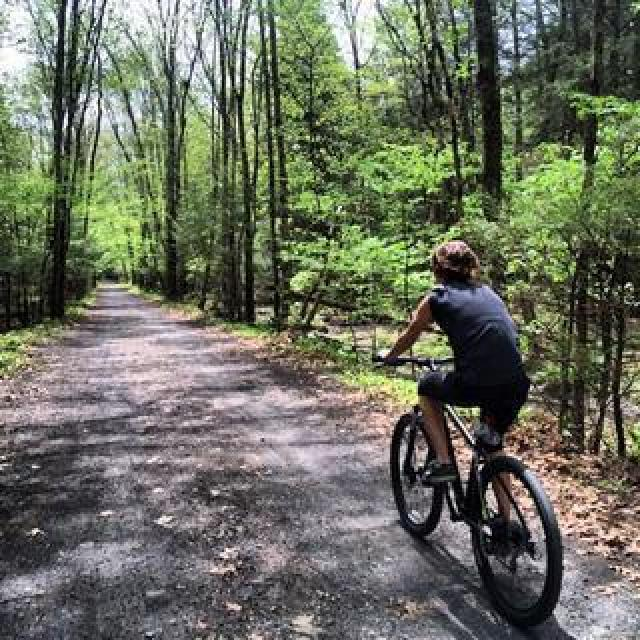MC-Bike: (376, 238, 532, 480)
Person: (389, 368, 565, 632)
